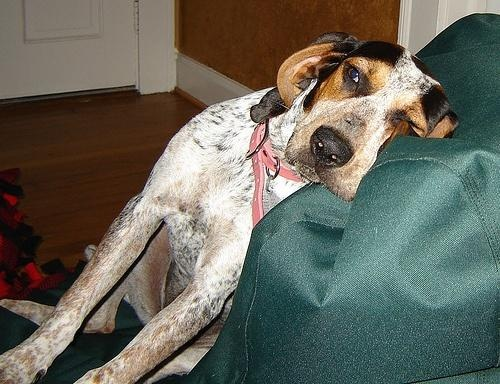dog: (1, 31, 461, 384)
